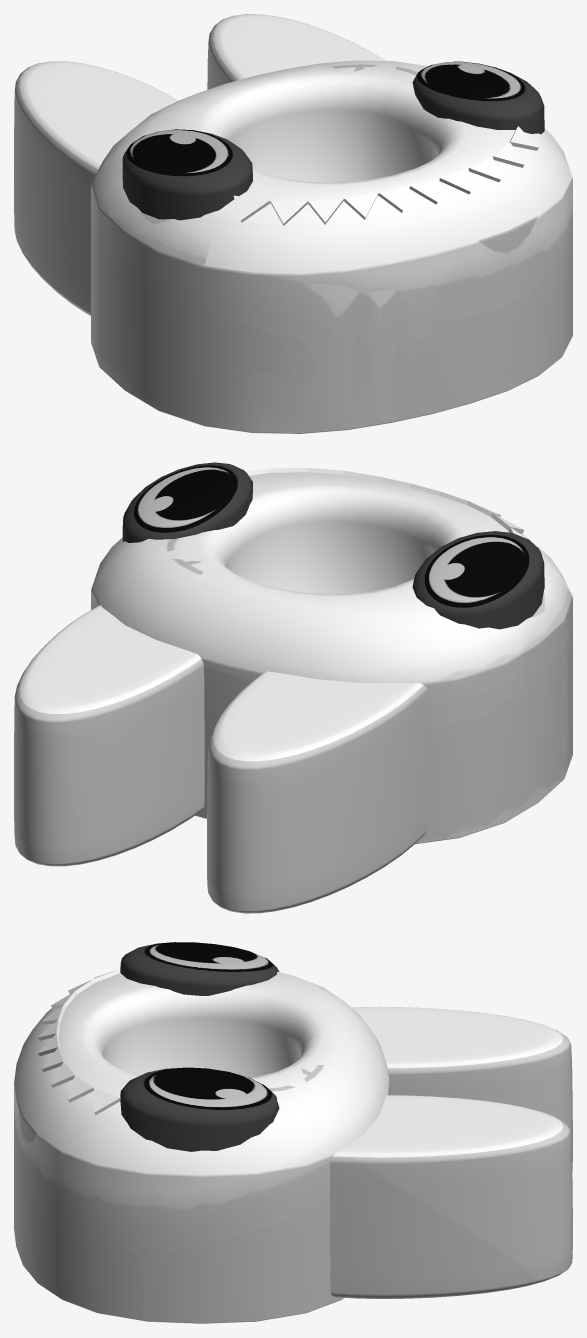
File: Labubu.fbx
3 views of the same model, one above another, from view 1: azimuth 30°, elevation 25°; view 2: azimuth 150°, elevation 25°; view 3: azimuth 270°, elevation 25° (orthographic). The views are drawn at different scales.
Visible parts, largest first — view 1: Labubu.001, ear, eyes1, Labubu1; view 2: Labubu.001, ear, eyes1, Labubu1; view 3: Labubu.001, ear, eyes1, Labubu1.
Part boxes in pixels (box(x1,y1,x2,y2)): Labubu.001: box(91, 60, 572, 433); ear: box(14, 14, 385, 315); eyes1: box(122, 61, 544, 220); Labubu1: box(233, 126, 538, 225); Labubu.001: box(91, 472, 572, 844); ear: box(14, 605, 428, 913); eyes1: box(122, 462, 544, 629); Labubu1: box(246, 467, 538, 547); Labubu.001: box(14, 972, 389, 1323); ear: box(330, 1006, 572, 1298); eyes1: box(120, 942, 279, 1151); Labubu1: box(37, 969, 120, 1115).
Size of the model in its own units: 0.4565 by 0.2408 by 0.5723.
3 materials, 2 textured.
